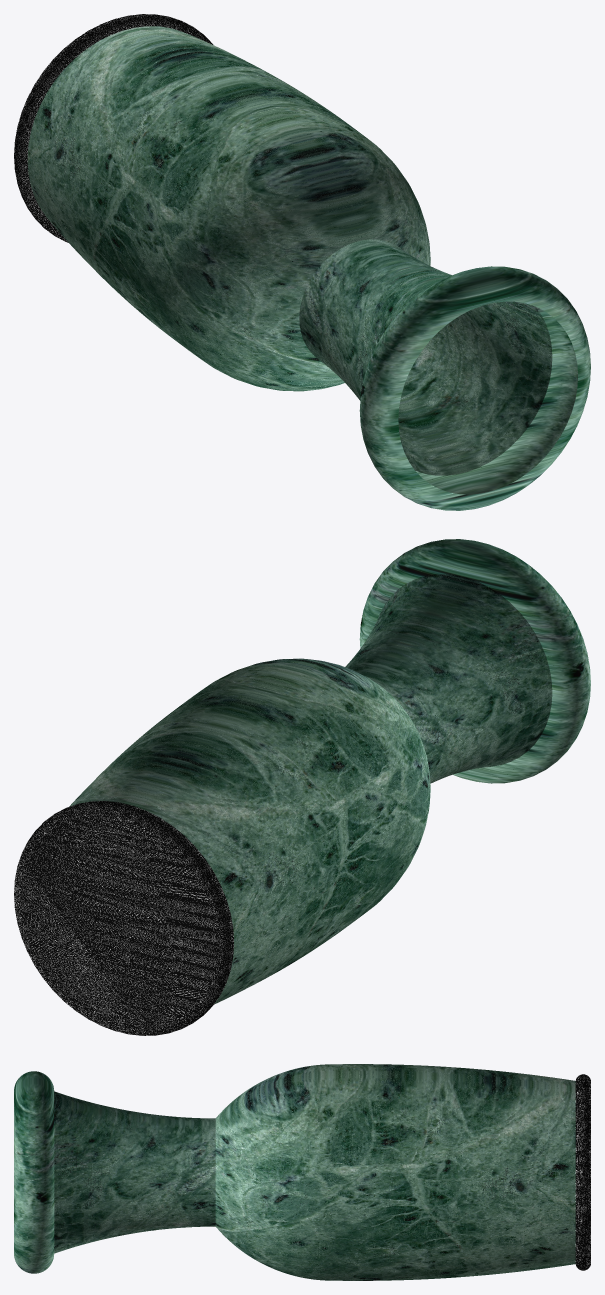
The model's file is model_scale.obj.
The picture shows the model from 3 angles, top to bottom: view 1: azimuth 30°, elevation 25°; view 2: azimuth 150°, elevation 25°; view 3: azimuth 270°, elevation 25°; orthographic projection. The views are drawn at different scales.
Visible parts, largest first — view 1: mesh1_mesh1-geometry; view 2: mesh1_mesh1-geometry; view 3: mesh1_mesh1-geometry.
Boxes of the visible parts, x1,y1,x2,y2 form: mesh1_mesh1-geometry: [14, 14, 590, 510]; mesh1_mesh1-geometry: [14, 539, 590, 1035]; mesh1_mesh1-geometry: [14, 1064, 590, 1280].
Size of the model in its own units: 0.091 by 0.0908 by 0.2422.
3 materials, 1 textured.
